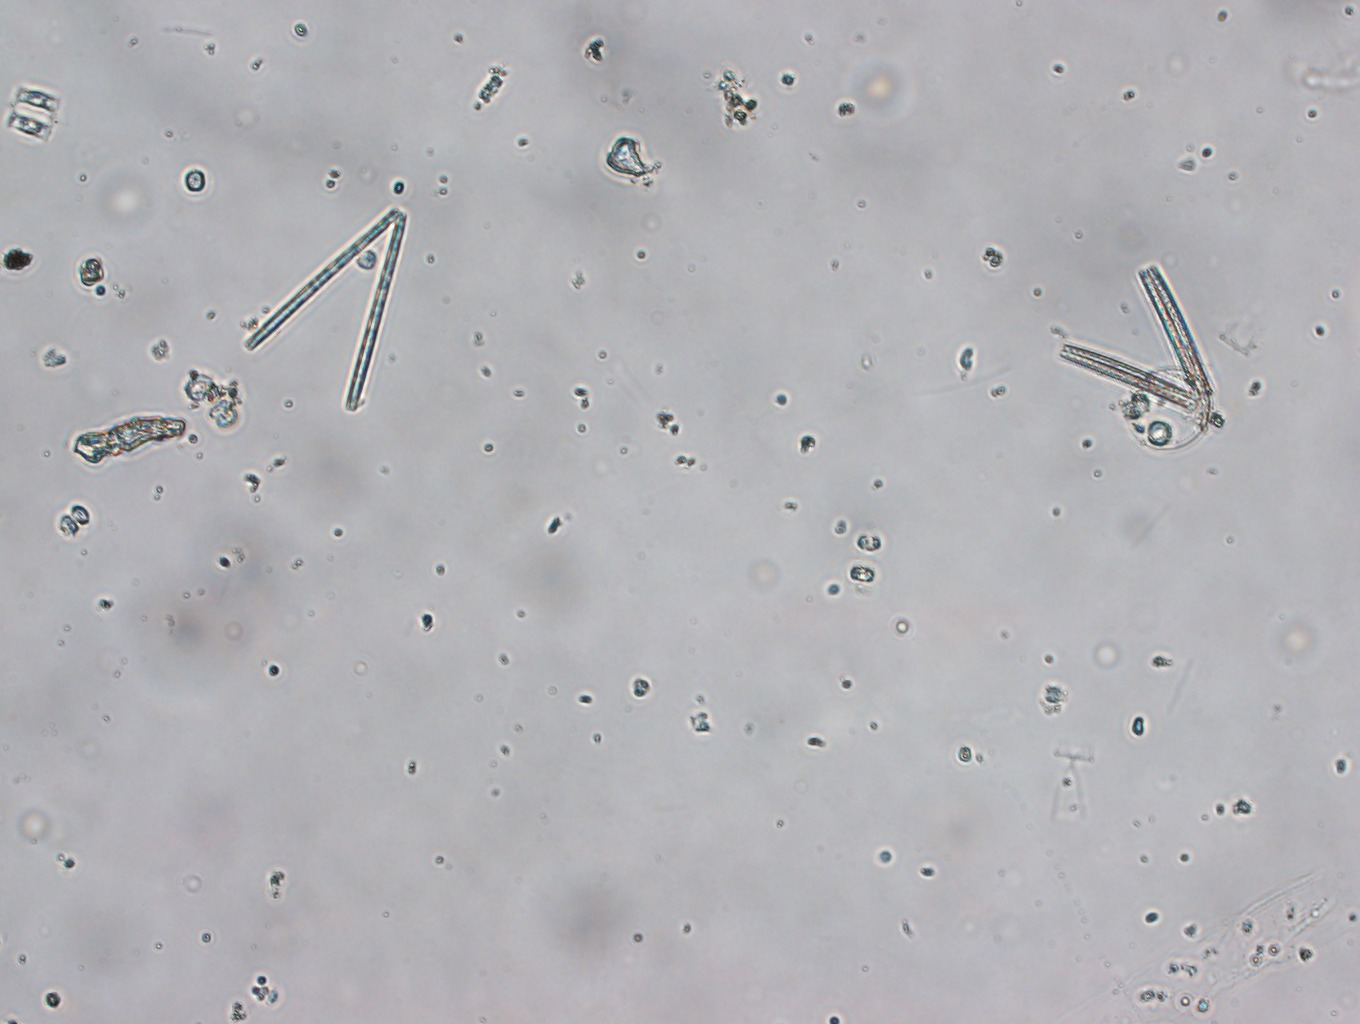thalassionema frauenfeldii: (244, 196, 417, 422), (1055, 260, 1231, 447)
